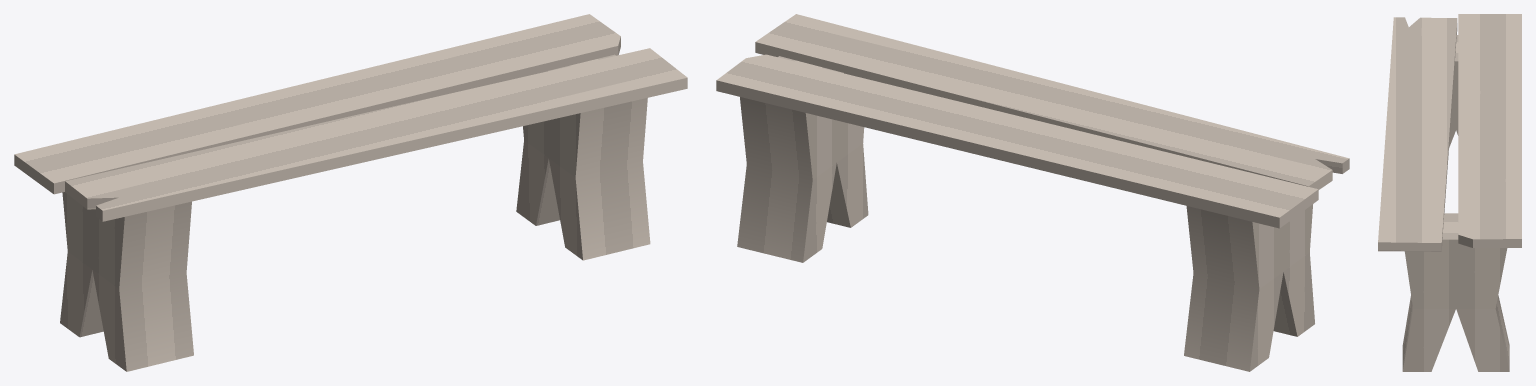
File: Props_Bench.fbx
3 views of the same model, side by side, from view 1: azimuth 30°, elevation 25°; view 2: azimuth 150°, elevation 25°; view 3: azimuth 270°, elevation 25° (orthographic). The views are drawn at different scales.
Parts seen in each view (by area): view 1: Bench; view 2: Bench; view 3: Bench.
Boxes of the visible parts, bbox=[...] form: Bench: bbox=[14, 14, 687, 371]; Bench: bbox=[716, 14, 1349, 371]; Bench: bbox=[1378, 14, 1521, 371].
Size of the model in its own units: 2.2 by 0.6189 by 0.5844.
